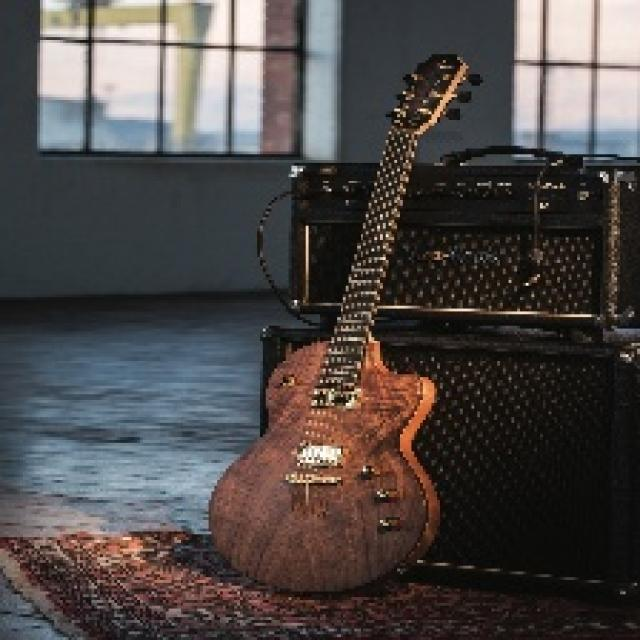guitar: (207, 53, 486, 594)
